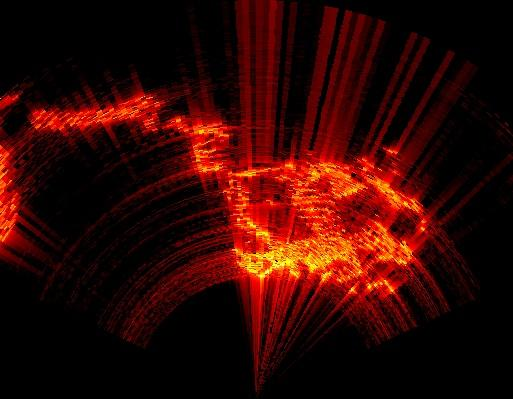shipwreck: (33, 96, 417, 285)
